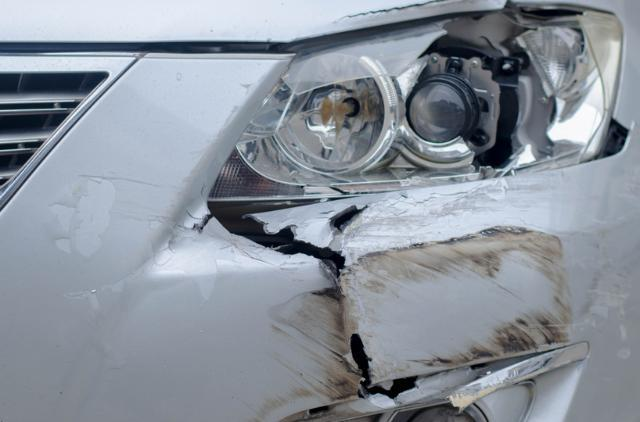Bumper: (157, 201, 595, 422)
Light: (245, 8, 631, 179)
